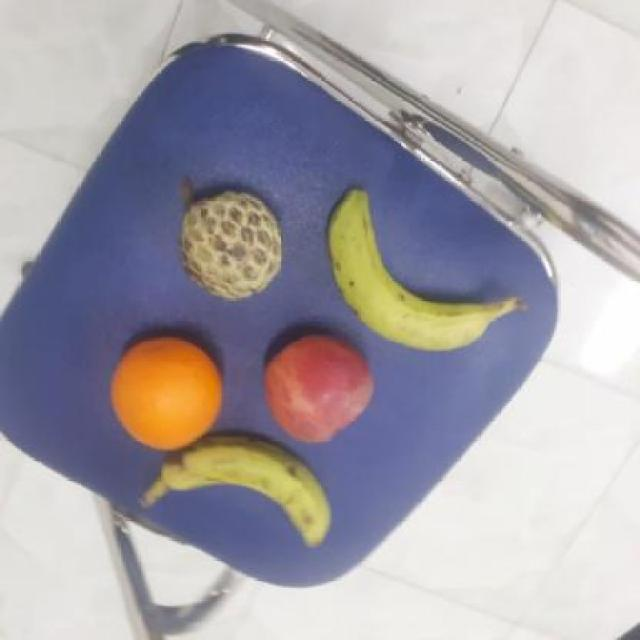apple: (254, 331, 378, 449)
banana: (327, 188, 491, 354), (160, 435, 338, 556)
oren: (108, 337, 226, 455)
sugar apple: (174, 190, 291, 302)
